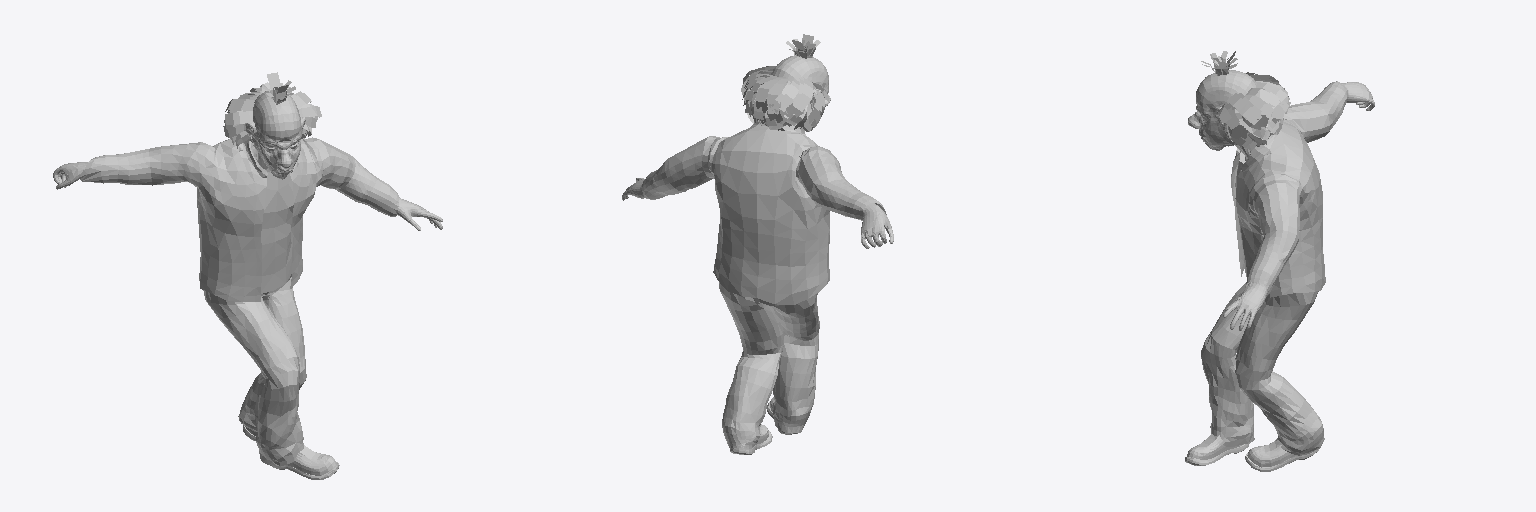
File: Attack02 (43).obj
The picture shows the model from 3 angles: view 1: azimuth 30°, elevation 25°; view 2: azimuth 150°, elevation 25°; view 3: azimuth 270°, elevation 25°; orthographic projection.
Visible parts, largest first — view 1: jacket, pants_low, head, shirt, hair, boots_01, hand_left, hand_right; view 2: jacket, pants_low, hair, head, hand_right; view 3: jacket, pants_low, hair, head, boots_02, hand_left, boots_01, hand_right.
Boxes of the visible parts, <box> form: jacket: <box>80,137,398,301</box>; pants_low: <box>203,274,306,465</box>; head: <box>245,91,305,179</box>; shirt: <box>251,143,293,293</box>; hair: <box>223,72,321,148</box>; boots_01: <box>270,445,339,479</box>; hand_left: <box>397,197,442,230</box>; hand_right: <box>53,162,87,189</box>; jacket: <box>642,121,886,304</box>; pants_low: <box>719,282,819,449</box>; hair: <box>741,34,828,131</box>; head: <box>771,56,830,131</box>; hand_right: <box>861,203,893,248</box>; jacket: <box>1231,81,1347,297</box>; pants_low: <box>1201,283,1324,455</box>; hair: <box>1201,51,1290,150</box>; head: <box>1188,70,1256,150</box>; boots_02: <box>1245,439,1318,471</box>; hand_left: <box>1223,282,1266,330</box>; boots_01: <box>1185,434,1249,465</box>; hand_right: <box>1341,82,1374,110</box>.
Bounding box in the file's own units: 156 × 184 × 79.23.